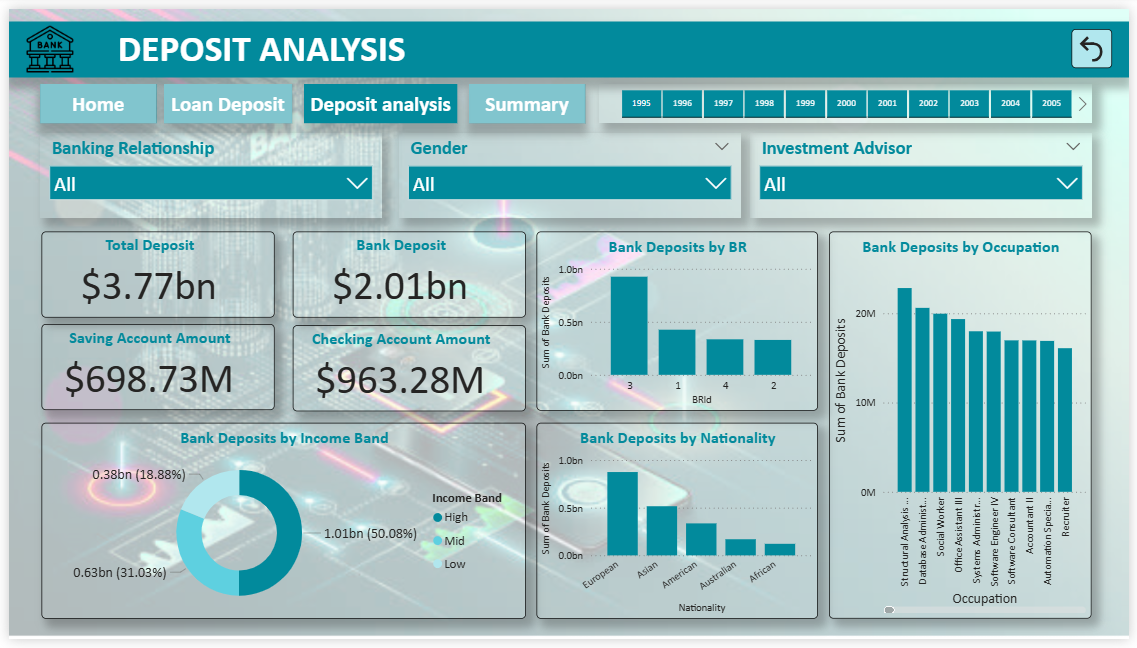

This screenshot's page, from the dashboard's own definition file:
{"tool":"powerbi","page":{"name":"Deposit Analysis","canvas":[1280,720],"ordinal":2},"visuals":[{"type":"textbox","box":[0,13.8,1280,63.8],"z":0},{"type":"image","box":[0,13.8,93.8,63.8],"z":1000},{"type":"actionButton","box":[1213.8,22.5,46.2,45],"z":2000},{"type":"slicer","fields":{"Values":["Banking Relationship.Banking Relationship"]},"box":[35,141.2,390,97.5],"z":3000},{"type":"slicer","fields":{"Values":["Gender.Gender"]},"box":[445,141.2,390,97.5],"z":4000},{"type":"slicer","fields":{"Values":["Investment Advisor.Investment Advisor"]},"box":[847.5,141.2,390,97.5],"z":5000},{"type":"textbox","box":[35,86.2,132.5,45],"z":6000},{"type":"textbox","box":[177.5,86.2,146.2,45],"z":7000},{"type":"textbox","box":[525,86.2,132.5,45],"z":8000},{"type":"textbox","box":[337.5,86.2,175,45],"z":9000},{"type":"actionButton","box":[35,86.2,132.5,45],"z":10000},{"type":"actionButton","box":[177.5,86.2,146.2,45],"z":11000},{"type":"actionButton","box":[337.5,86.2,175,45],"z":12000},{"type":"actionButton","box":[525,86.2,132.5,45],"z":13000},{"type":"slicer","fields":{"Values":["Banking.Joined Bank.Variation.Date Hierarchy.Year"]},"box":[675,86.2,563.8,45],"z":14000},{"type":"card","title":"Saving Account Amount","fields":{"Values":["DAX Measures.Savings Account Amount"]},"box":[37.5,360,266.2,98.8],"z":15000},{"type":"card","title":"Bank Deposit","fields":{"Values":["DAX Measures.Bank Deposit"]},"box":[323.8,253.8,266.2,98.8],"z":16000},{"type":"card","title":"Total Deposit","fields":{"Values":["DAX Measures.Total Deposit"]},"box":[37.5,254,266.2,98.8],"z":17000},{"type":"card","title":"Checking Account Amount","fields":{"Values":["DAX Measures.Checking Accounts Amount"]},"box":[323.8,361.2,266.2,98.8],"z":18000},{"type":"donutChart","title":"Bank Deposits by Income Band","fields":{"Y":["Sum(Banking.Bank Deposits)"],"Category":["Banking.Fee Structure"]},"box":[37.5,472.5,553.8,223.8],"z":19000},{"type":"columnChart","title":"Bank Deposits by BR","fields":{"Category":["Banking.BRId"],"Y":["Sum(Banking.Bank Deposits)"]},"box":[602.5,253.8,321.2,205],"z":20000},{"type":"columnChart","title":"Bank Deposits by Nationality","fields":{"Category":["Banking.Nationality"],"Y":["Sum(Banking.Bank Deposits)"]},"box":[602.5,472.5,321.2,223.8],"z":21000},{"type":"columnChart","title":"Bank Deposits by Occupation","fields":{"Category":["Banking.Occupation"],"Y":["Sum(Banking.Bank Deposits)"]},"box":[937.5,253.8,300,442.5],"z":22000}]}

Visuals, with their boxes in screenshot pixels (x1, y1, x2, y2), scaled from the page's 1280x720 canvas onto the 1137x648 screenshot:
textbox: x1=0, y1=12, x2=1136, y2=70
image: x1=0, y1=12, x2=83, y2=70
actionButton: x1=1078, y1=20, x2=1119, y2=61
slicer - Banking Relationship.Banking Relationship: x1=31, y1=127, x2=378, y2=215
slicer - Gender.Gender: x1=395, y1=127, x2=742, y2=215
slicer - Investment Advisor.Investment Advisor: x1=753, y1=127, x2=1099, y2=215
textbox: x1=31, y1=78, x2=149, y2=118
textbox: x1=158, y1=78, x2=288, y2=118
textbox: x1=466, y1=78, x2=584, y2=118
textbox: x1=300, y1=78, x2=455, y2=118
actionButton: x1=31, y1=78, x2=149, y2=118
actionButton: x1=158, y1=78, x2=288, y2=118
actionButton: x1=300, y1=78, x2=455, y2=118
actionButton: x1=466, y1=78, x2=584, y2=118
slicer - Banking.Joined Bank.Variation.Date Hierarchy.Year: x1=600, y1=78, x2=1100, y2=118
"Saving Account Amount" card: x1=33, y1=324, x2=270, y2=413
"Bank Deposit" card: x1=288, y1=228, x2=524, y2=317
"Total Deposit" card: x1=33, y1=229, x2=270, y2=318
"Checking Account Amount" card: x1=288, y1=325, x2=524, y2=414
"Bank Deposits by Income Band" donutChart: x1=33, y1=425, x2=525, y2=627
"Bank Deposits by BR" columnChart: x1=535, y1=228, x2=821, y2=413
"Bank Deposits by Nationality" columnChart: x1=535, y1=425, x2=821, y2=627
"Bank Deposits by Occupation" columnChart: x1=833, y1=228, x2=1099, y2=627
